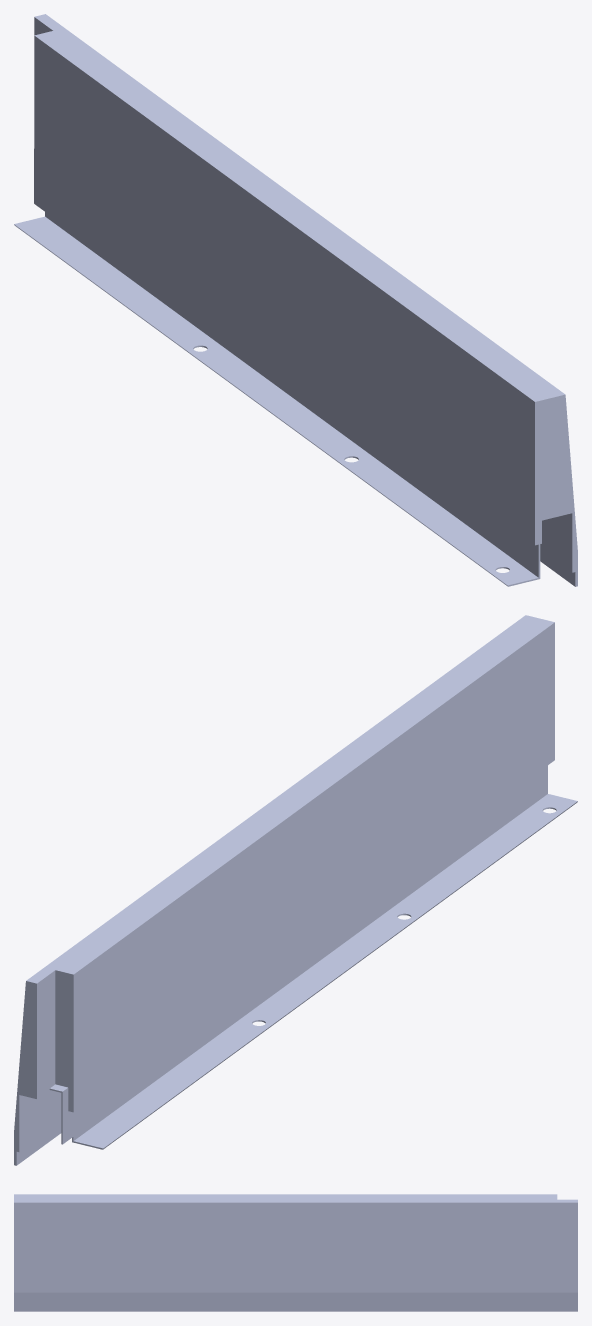
The model's file is mv-kava-M450-m.glb.
The picture shows the model from 3 angles, top to bottom: view 1: azimuth 30°, elevation 25°; view 2: azimuth 150°, elevation 25°; view 3: azimuth 270°, elevation 25°; orthographic projection. The views are drawn at different scales.
Parts seen in each view (by area): view 1: 43083478; view 2: 43083478; view 3: 43083478.
Part boxes in pixels (x1,y1,x2,y2): 43083478: (14, 14, 577, 586); 43083478: (14, 615, 577, 1165); 43083478: (14, 1194, 577, 1311).
Bounding box in the file's own units: 0.0335 × 0.091 × 0.4402.
